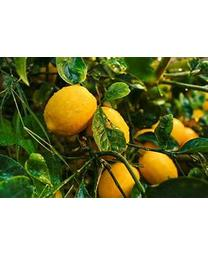lemon: (44, 85, 97, 138), (139, 151, 179, 187)
